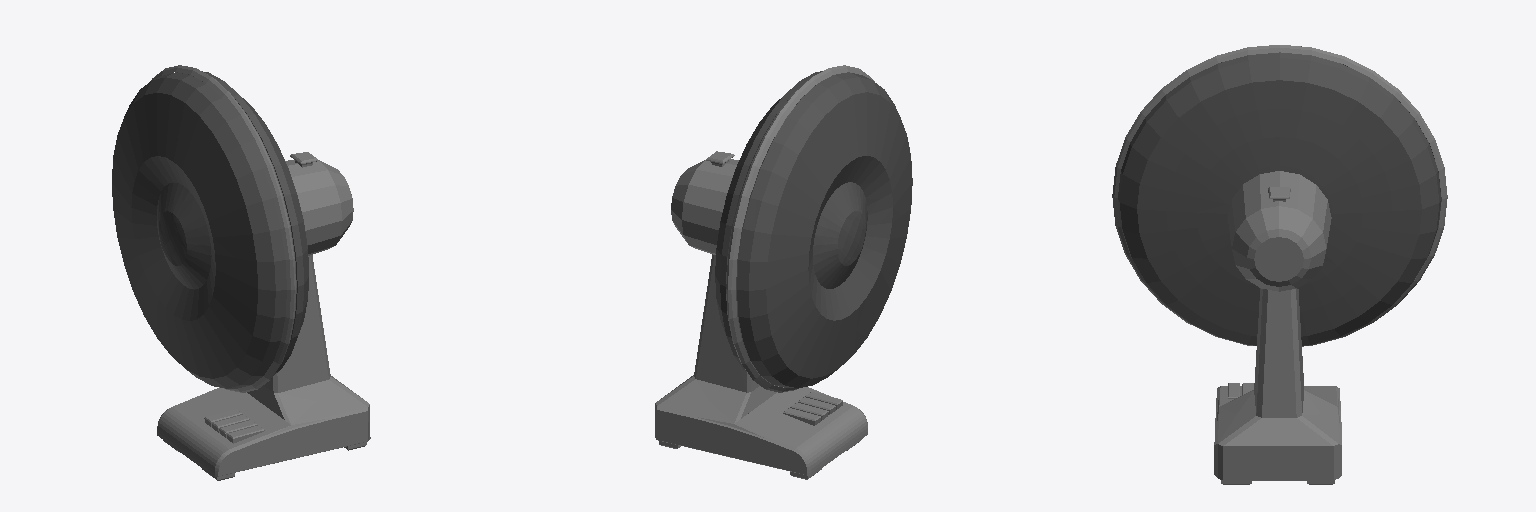
File: Fan_Done2_Rigged.obj
3 renders of one model, left to right at view 1: azimuth 30°, elevation 25°; view 2: azimuth 150°, elevation 25°; view 3: azimuth 270°, elevation 25°, orthographic.
Parts seen in each view (by area): view 1: Cube; view 2: Cube; view 3: Cube.
Part boxes in pixels (x1,y1,x2,y2): Cube: (112,65,370,480); Cube: (655,65,912,479); Cube: (1112,45,1447,484).
Size of the model in its own units: 0.5563 by 1.17 by 0.9402.